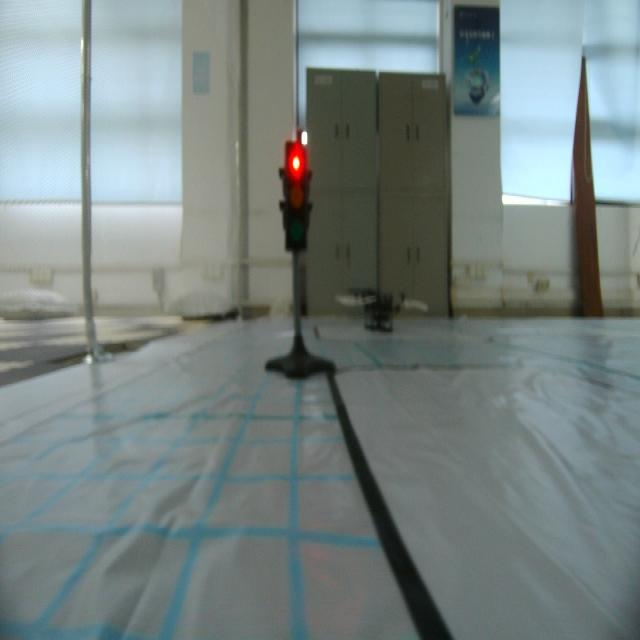red: (280, 129, 312, 260)
